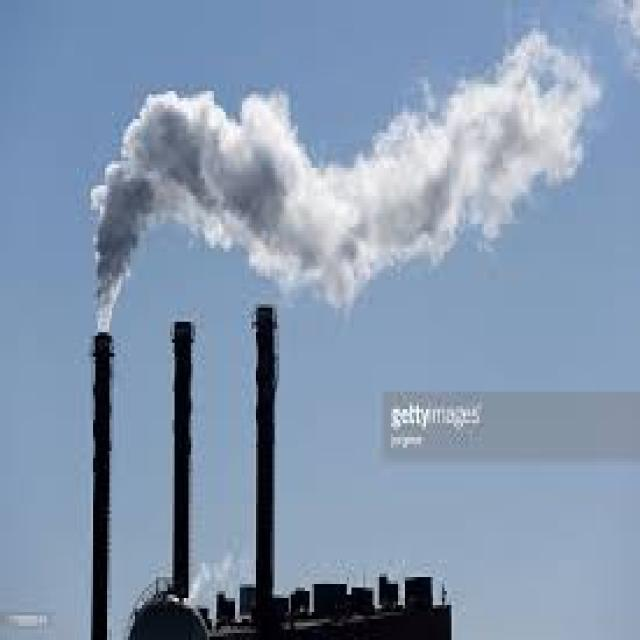Smoke: (90, 27, 602, 334)
